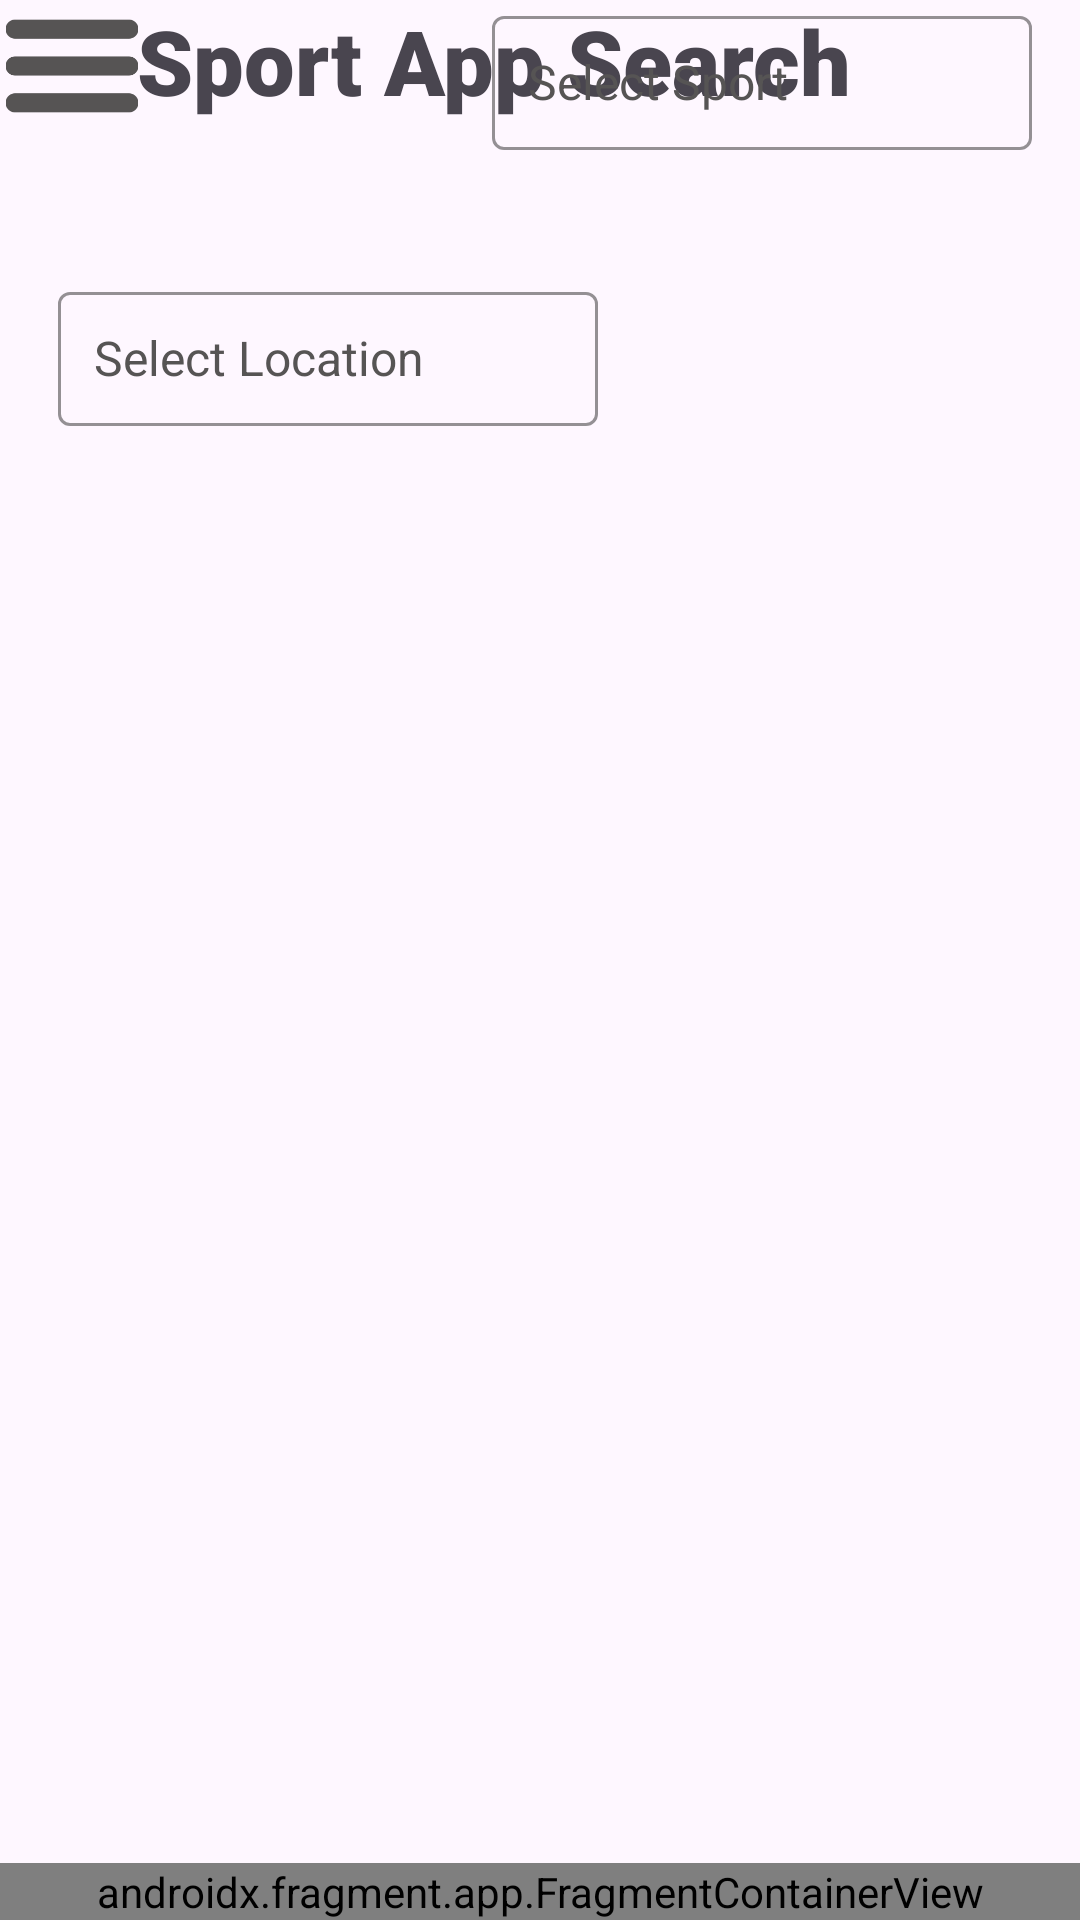

Named icons in this screenshot (1080×1920) and their centers, (x=x, y=y):
menu: (x=72, y=66)
